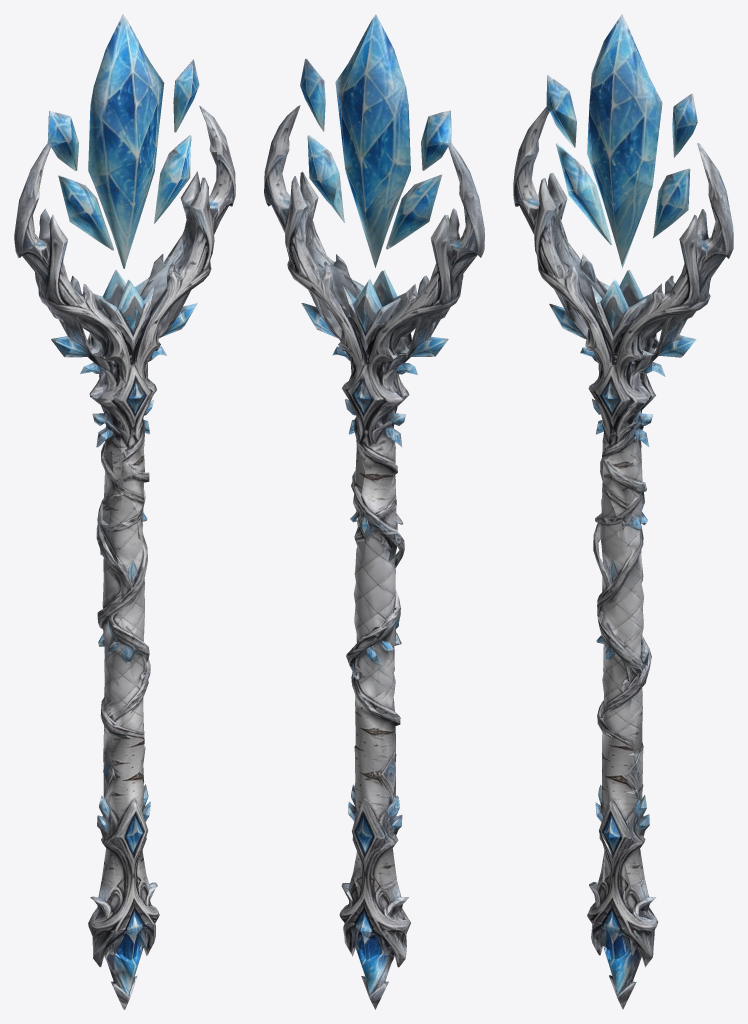
Rendered from staff-ice.glb.
3 views of the same model, side by side, from view 1: azimuth 30°, elevation 25°; view 2: azimuth 150°, elevation 25°; view 3: azimuth 330°, elevation 25° (orthographic).
Size of the model in its own units: 0.4637 by 2 by 0.1137.
1 material, 1 textured.
